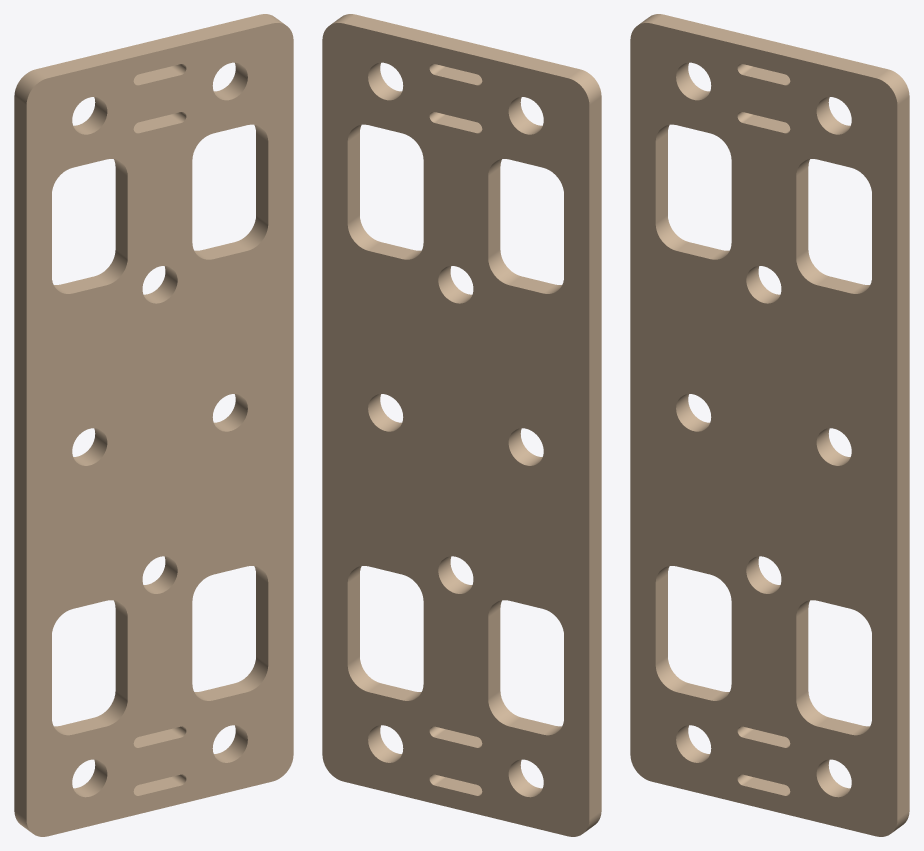
Rendered from fret wagon v17_fret wagon v17_wood version_1_top sheet_1_Body1.obj.
3 views of the same model, side by side, from view 1: azimuth 30°, elevation 25°; view 2: azimuth 150°, elevation 25°; view 3: azimuth 330°, elevation 25° (orthographic).
Visible parts, largest first — view 1: Body1; view 2: Body1; view 3: Body1.
Part boxes in pixels (bbox=[...]): Body1: bbox=[14, 14, 293, 836]; Body1: bbox=[322, 14, 601, 836]; Body1: bbox=[630, 14, 909, 836].
Size of the model in its own units: 38 by 103 by 3.
